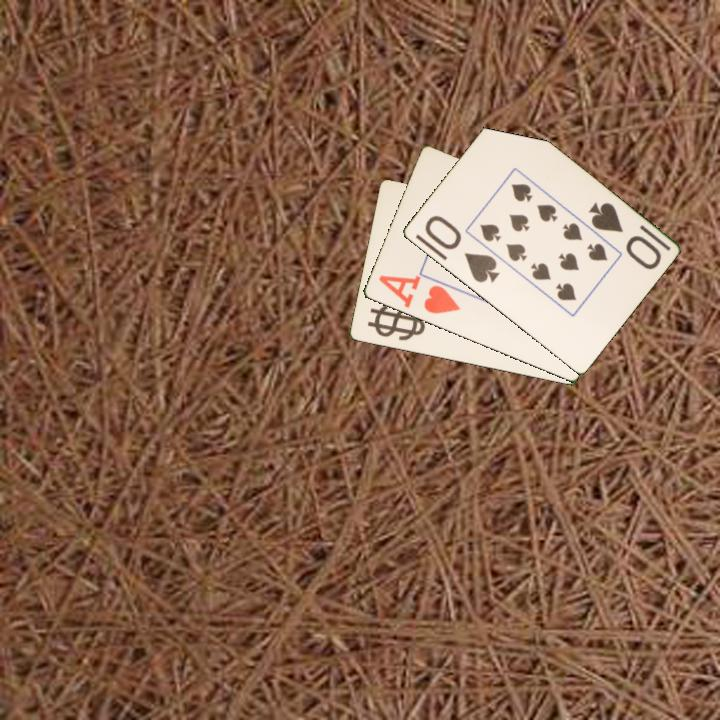10s: (584, 198, 664, 273), (421, 212, 502, 286)
Ah: (375, 272, 463, 317)
JK: (374, 310, 424, 337)
